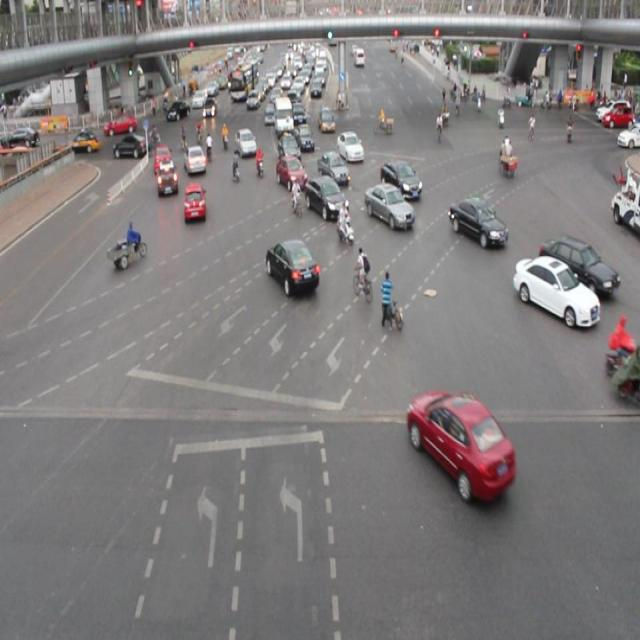car: (408, 384, 514, 494), (514, 257, 594, 326), (543, 228, 618, 292), (264, 238, 319, 294), (450, 195, 507, 249), (364, 181, 414, 230), (304, 172, 347, 219), (380, 157, 421, 200), (318, 149, 348, 186), (276, 155, 307, 190), (337, 130, 363, 163), (184, 183, 206, 221), (157, 159, 178, 197), (277, 132, 302, 161), (234, 129, 258, 157), (184, 146, 207, 174), (154, 144, 174, 176)
